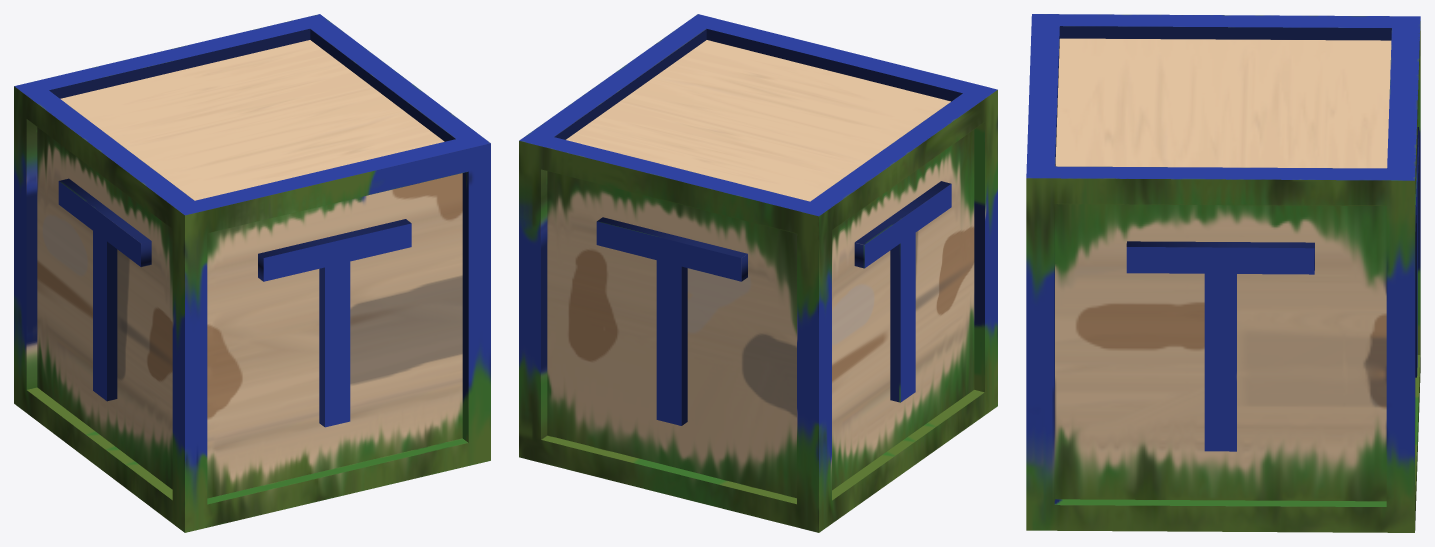
3 views of the same model, side by side, from view 1: azimuth 30°, elevation 25°; view 2: azimuth 150°, elevation 25°; view 3: azimuth 270°, elevation 25° (orthographic). The views are drawn at different scales.
Visible parts, largest first — view 1: Cube.016; view 2: Cube.016; view 3: Cube.016.
Boxes of the visible parts, x1,y1,x2,y2 form: Cube.016: (14,14,490,532); Cube.016: (519,14,997,532); Cube.016: (1026,14,1420,532).
Bounding box in the file's own units: 74.61 × 73.57 × 74.61.
1 material, 1 textured.
